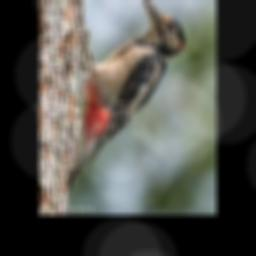Woodpecker: (66, 0, 185, 191)
